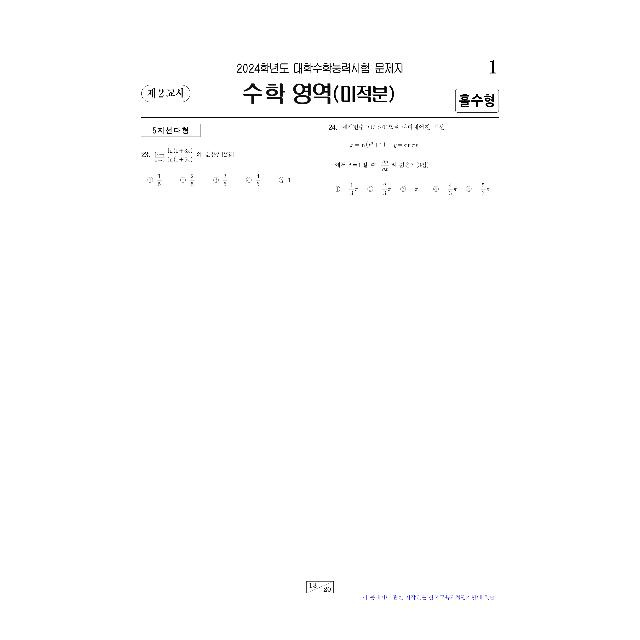multiple: (326, 120, 502, 200), (134, 142, 316, 194)
